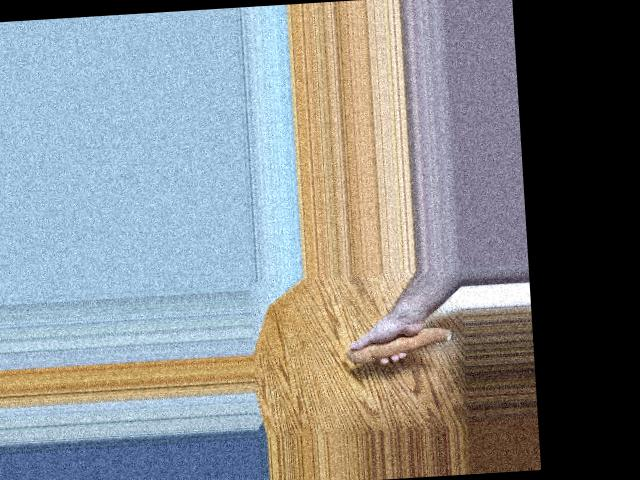sweet_potato: (345, 322, 457, 366)
